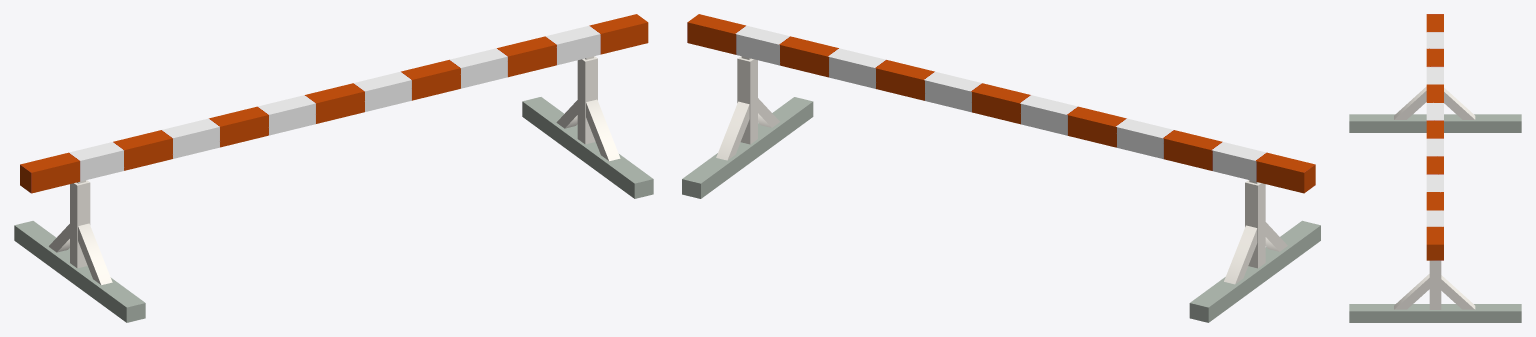
File: Steeplechase_woman.FBX
3 views of the same model, side by side, from view 1: azimuth 30°, elevation 25°; view 2: azimuth 150°, elevation 25°; view 3: azimuth 270°, elevation 25° (orthographic). The views are drawn at different scales.
Parts seen in each view (by area): view 1: Steeplechase_woman; view 2: Steeplechase_woman; view 3: Steeplechase_woman.
Part boxes in pixels (<box>): Steeplechase_woman: <box>14,14,653,322</box>; Steeplechase_woman: <box>682,14,1320,322</box>; Steeplechase_woman: <box>1349,14,1521,322</box>.
Size of the model in its own units: 39.6 by 7.62 by 12.5.
